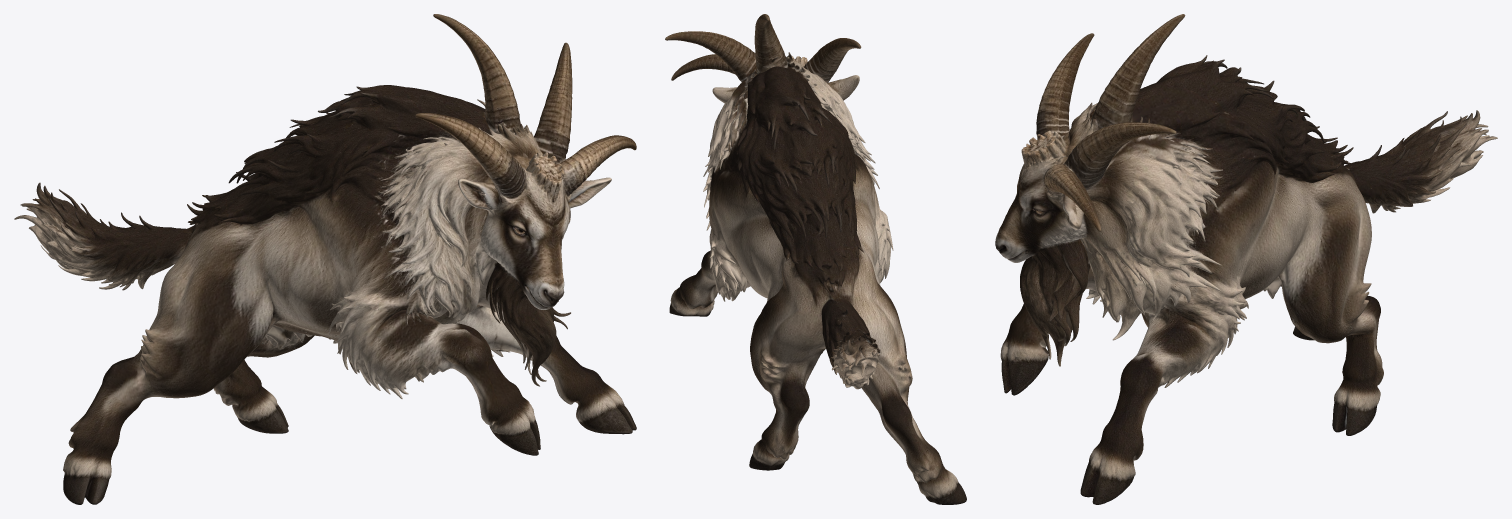
The model's file is goat_broken.glb.
3 renders of one model, left to right at view 1: azimuth 30°, elevation 25°; view 2: azimuth 150°, elevation 25°; view 3: azimuth 270°, elevation 25°, orthographic. The views are drawn at different scales.
Bounding box in the file's own units: 1.9 × 1.83 × 1.82.
1 material, 1 textured.
